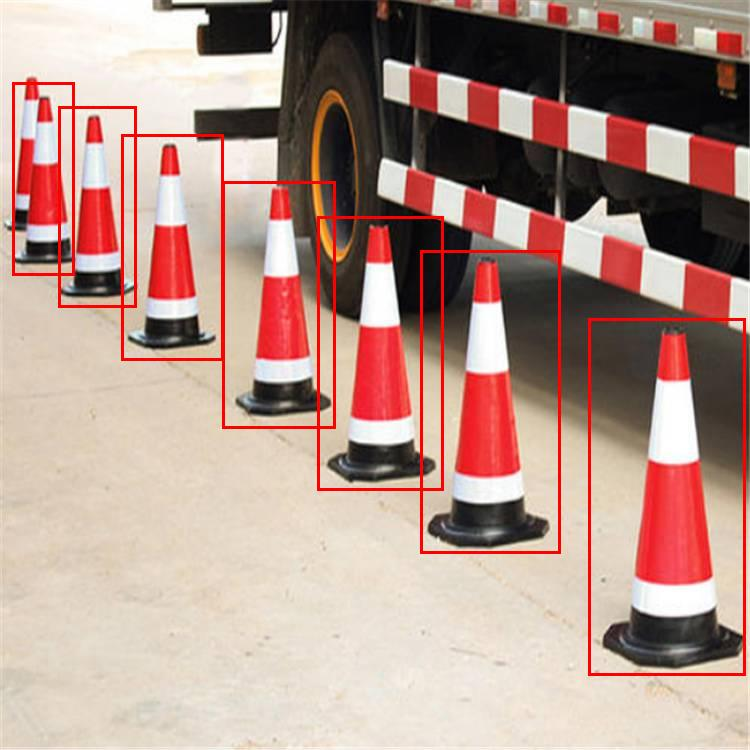traffic_cone: (610, 322, 742, 682), (431, 240, 566, 559), (316, 206, 436, 483), (232, 172, 340, 422), (126, 136, 221, 358), (62, 106, 140, 298), (10, 64, 77, 274)
